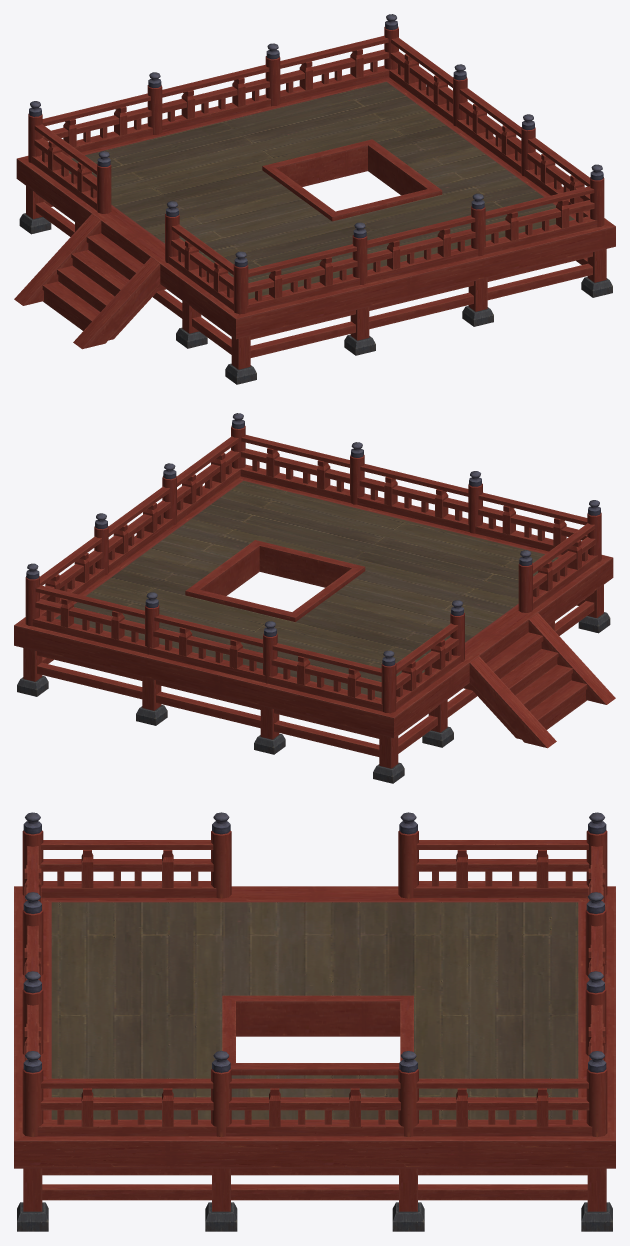
Rendered from Homeworld_Exterior_Dq_Build_Decoration_Sakura_01_A_Lod0.fbx.
The picture shows the model from 3 angles, top to bottom: view 1: azimuth 30°, elevation 25°; view 2: azimuth 150°, elevation 25°; view 3: azimuth 270°, elevation 25°; orthographic projection. The views are drawn at different scales.
Visible parts, largest first — view 1: Homeworld_Exterior_Dq_Build_Decoration_Sakura_01_A_Lod0; view 2: Homeworld_Exterior_Dq_Build_Decoration_Sakura_01_A_Lod0; view 3: Homeworld_Exterior_Dq_Build_Decoration_Sakura_01_A_Lod0.
Part boxes in pixels (left/top/right/bottom): Homeworld_Exterior_Dq_Build_Decoration_Sakura_01_A_Lod0: left=14, top=14, right=615, bottom=384; Homeworld_Exterior_Dq_Build_Decoration_Sakura_01_A_Lod0: left=14, top=413, right=615, bottom=783; Homeworld_Exterior_Dq_Build_Decoration_Sakura_01_A_Lod0: left=14, top=812, right=615, bottom=1231.
Bounding box in the file's own units: 9.2 × 2.44 × 7.63.
